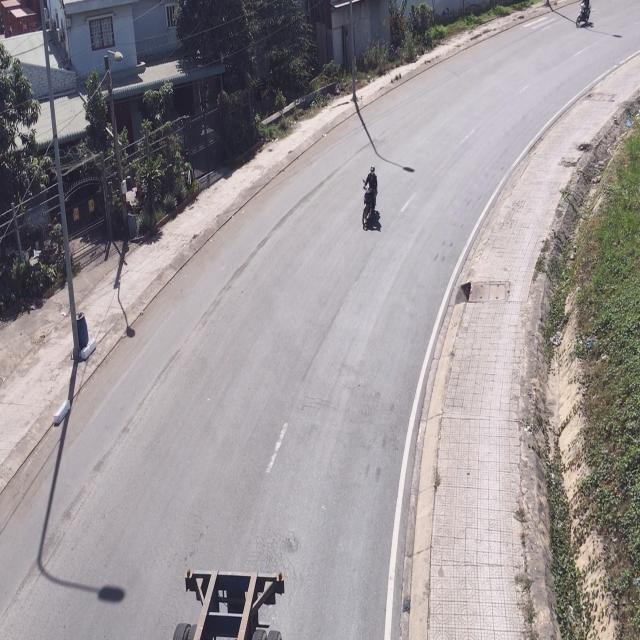motorbike: (360, 164, 380, 233), (576, 0, 594, 30)
